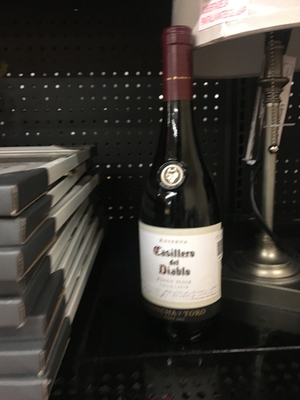casillero del diablo pinot noir: (111, 24, 245, 348)
